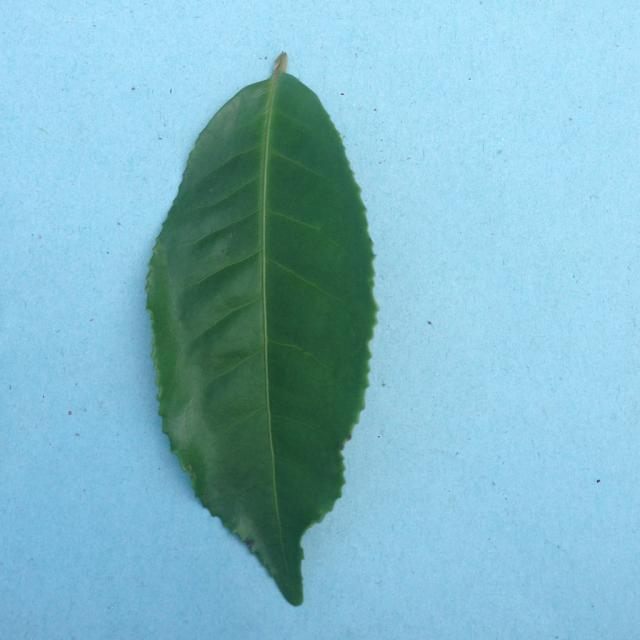Healthy: (122, 32, 444, 624)
